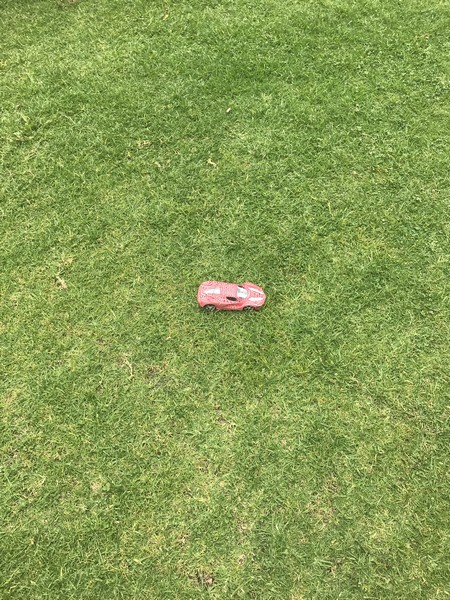RC: (196, 276, 266, 312)
